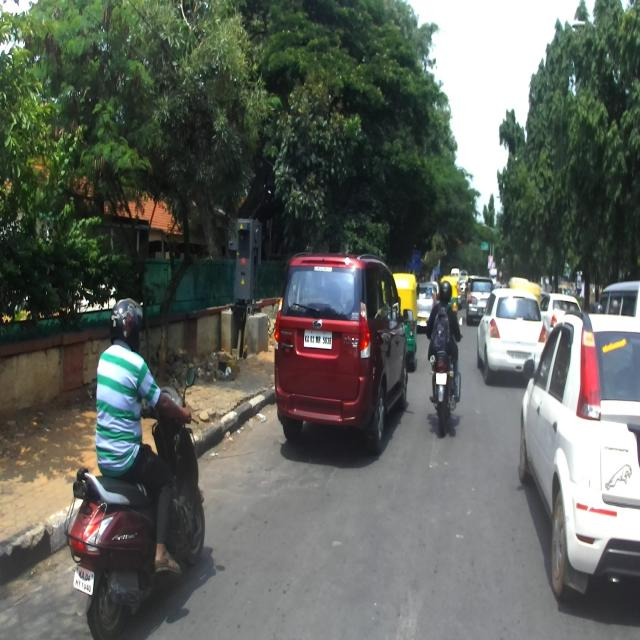car: (518, 309, 640, 602), (274, 250, 414, 456), (477, 288, 546, 386)
motorcycle: (424, 313, 464, 436)
scooter: (63, 364, 206, 640)
